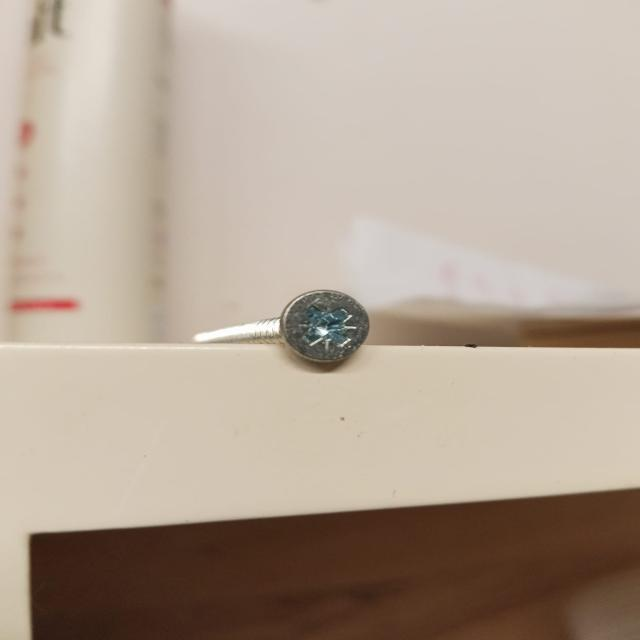pozidriv: (280, 288, 370, 363)
